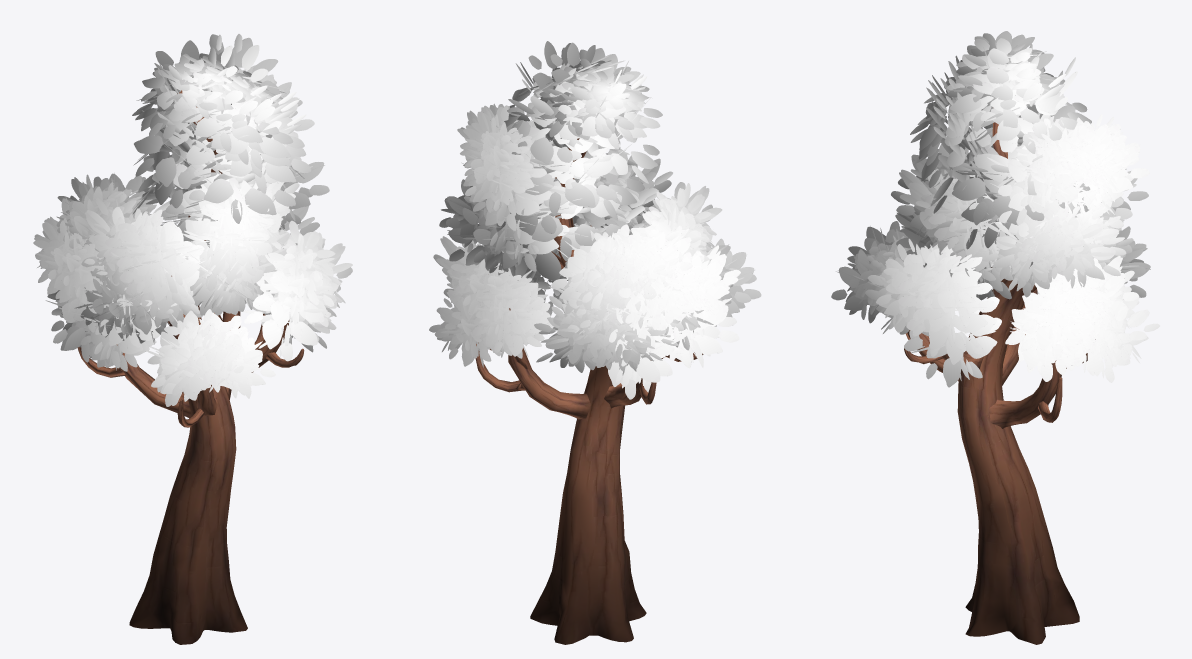
File: CommonTree_2.glb
3 views of the same model, side by side, from view 1: azimuth 30°, elevation 25°; view 2: azimuth 150°, elevation 25°; view 3: azimuth 270°, elevation 25° (orthographic). The views are drawn at different scales.
Parts seen in each view (by area): view 1: CommonTree_2; view 2: CommonTree_2; view 3: CommonTree_2.
Part boxes in pixels (x1,y1,x2,y2): CommonTree_2: [33, 34, 352, 644]; CommonTree_2: [429, 41, 761, 644]; CommonTree_2: [831, 31, 1159, 644].
Size of the model in its own units: 4.46 by 7.64 by 4.28.
2 materials, 2 textured.
